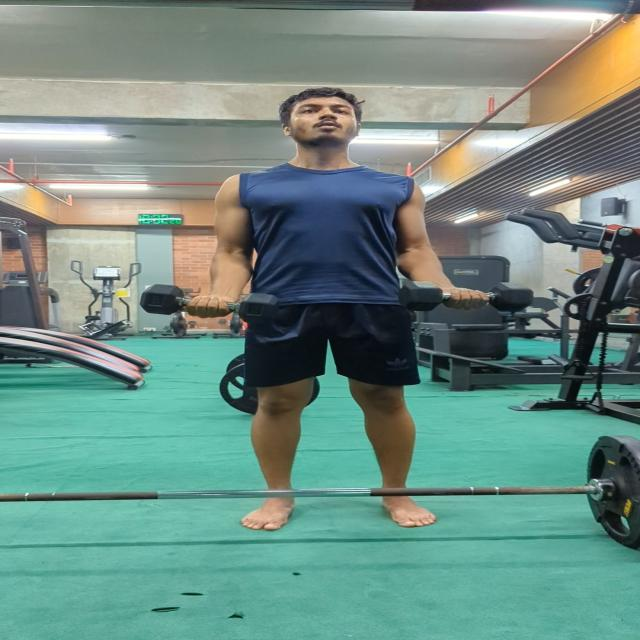Normal_DumbbellBicepCurls: (138, 83, 538, 532)
